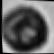correct: (0, 1, 49, 52)
